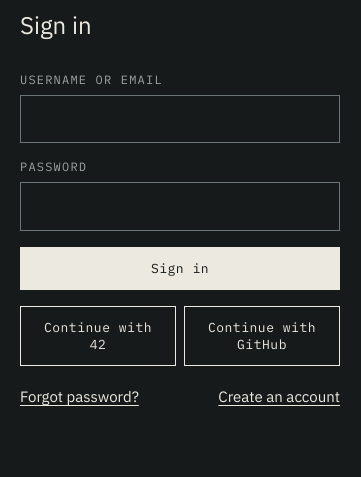
Test: LoginPage › shows a generic error when login fails for any other reason
Type "ada" into the field labelled "Username or email".
click(180, 119); type("ada")  # box [20, 95, 340, 143]
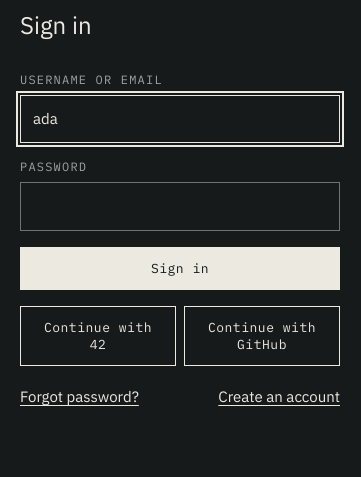
Type "correct horse" into the password field labelled "Password".
click(180, 207); type("correct horse")  # box [20, 182, 340, 231]
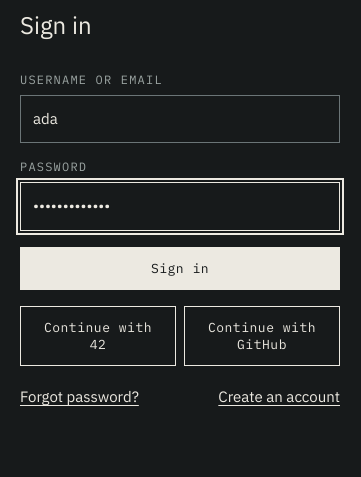
Click the button "Sign in".
click(180, 268)  # box [20, 247, 340, 290]
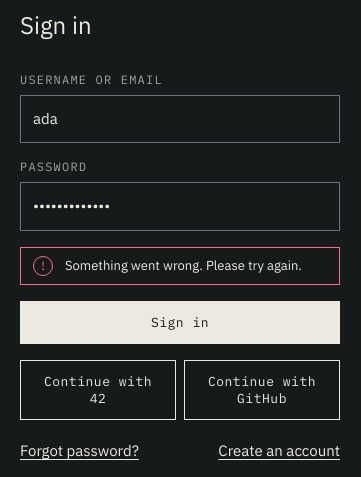
Result: the message shows "Something went wrong. Please try again." at [65, 257, 302, 274]
